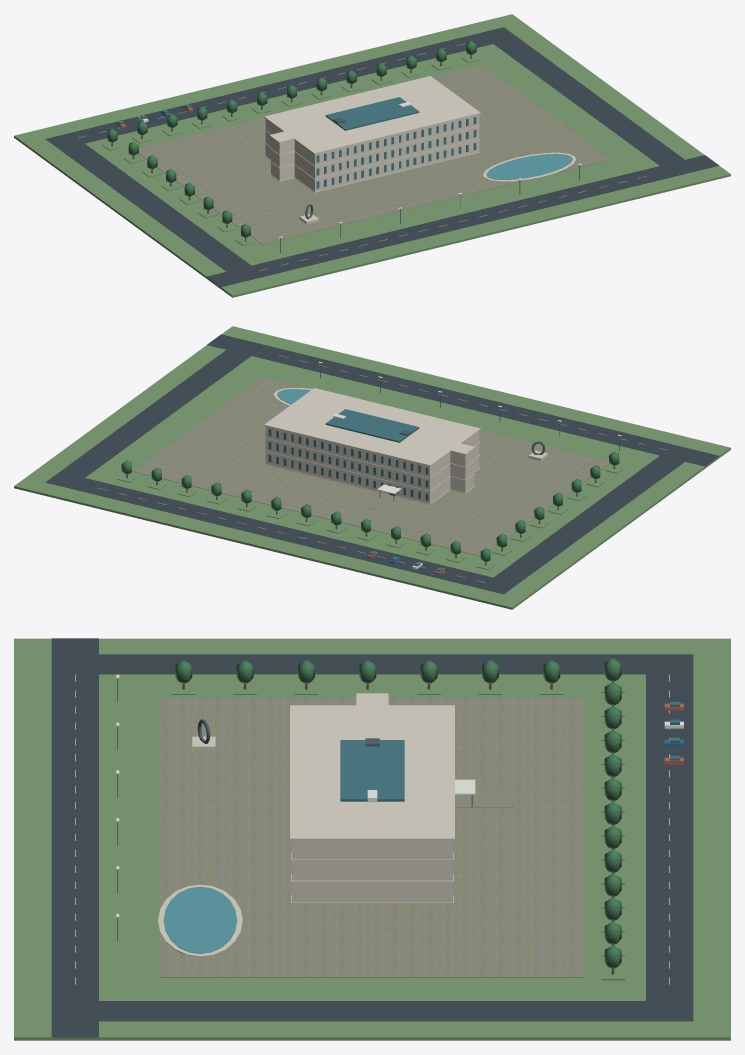
The picture shows the model from 3 angles, top to bottom: view 1: azimuth 30°, elevation 25°; view 2: azimuth 150°, elevation 25°; view 3: azimuth 270°, elevation 25°; orthographic projection. The views are drawn at different scales.
Visible parts, largest first — view 1: Landscape/grass, Landscape/paving, Landscape/road, Building 1/Roof/stone, Building 1/stone, Landscape/leaf, Building 1/Roof/glass, Water garden/water, Building 2/stone, Building 1/Floor 3/glass, Building 1/Floor 1/glass, Building 1/Floor 2/glass (+1 smaller); view 2: Landscape/grass, Landscape/paving, Landscape/road, Building 1/Roof/stone, Building 1/stone, Landscape/leaf, Building 1/Roof/glass, Building 2/stone, Building 1/Floor 3/glass, Building 1/Floor 2/glass, Building 1/Floor 1/glass; view 3: Landscape/grass, Landscape/paving, Landscape/road, Building 1/Roof/stone, Building 1/stone, Landscape/leaf, Water garden/water, Building 1/Roof/glass, Water garden/stone, Accessible entrance/paving.
Boxes of the visible parts, bbox=[...] form: Landscape/grass: bbox=[14, 14, 730, 297]; Landscape/paving: bbox=[138, 65, 611, 244]; Landscape/road: bbox=[45, 27, 718, 287]; Building 1/Roof/stone: bbox=[264, 76, 480, 154]; Building 1/stone: bbox=[265, 114, 479, 191]; Landscape/leaf: bbox=[107, 41, 476, 238]; Building 1/Roof/glass: bbox=[325, 97, 419, 130]; Water garden/water: bbox=[486, 153, 572, 179]; Building 2/stone: bbox=[271, 137, 294, 180]; Building 1/Floor 3/glass: bbox=[316, 117, 476, 162]; Building 1/Floor 1/glass: bbox=[316, 143, 476, 188]; Building 1/Floor 2/glass: bbox=[316, 130, 476, 175]; Landscape/grass: bbox=[14, 326, 730, 609]; Landscape/paving: bbox=[133, 377, 609, 556]; Landscape/road: bbox=[45, 334, 718, 594]; Building 1/Roof/stone: bbox=[264, 388, 480, 466]; Building 1/stone: bbox=[265, 426, 479, 503]; Landscape/leaf: bbox=[121, 451, 619, 562]; Building 1/Roof/glass: bbox=[325, 409, 419, 442]; Building 2/stone: bbox=[450, 449, 473, 492]; Building 1/Floor 3/glass: bbox=[268, 429, 428, 474]; Building 1/Floor 2/glass: bbox=[268, 442, 428, 487]; Building 1/Floor 1/glass: bbox=[268, 455, 428, 500]; Landscape/grass: bbox=[14, 638, 730, 1040]; Landscape/paving: bbox=[160, 698, 584, 977]; Landscape/road: bbox=[51, 638, 693, 1037]; Building 1/Roof/stone: bbox=[290, 705, 454, 840]; Building 1/stone: bbox=[291, 840, 453, 902]; Landscape/leaf: bbox=[175, 658, 621, 969]; Water garden/water: bbox=[163, 886, 237, 953]; Building 1/Roof/glass: bbox=[340, 740, 404, 801]; Water garden/stone: bbox=[158, 884, 242, 956]; Accessible entrance/paving: bbox=[455, 795, 514, 807].
Size of the model in its own units: 200 by 17.25 by 152.
13 materials, 1 textured.
